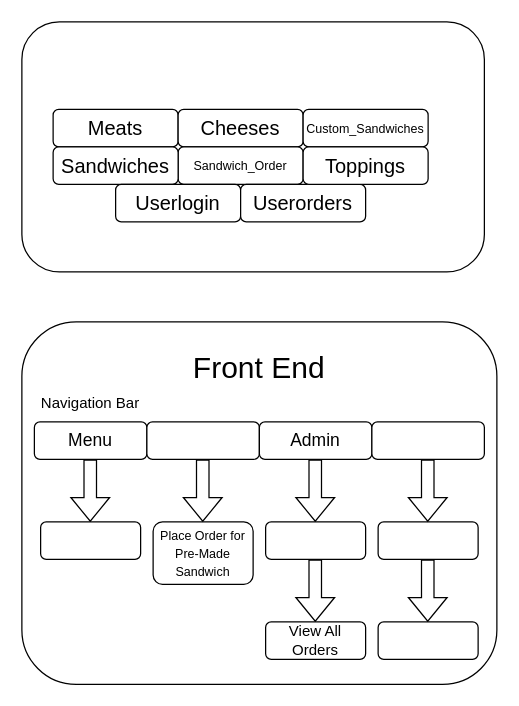
Image size: 519x706. Some labels were removed from this diagram. The shapes that lost their labels are listed below. From the top down, each one's box as (x1, y1, x2, y2) in pixels, then its label:
(21, 21, 484, 272): Back End Tables
(146, 421, 259, 459): Order
(371, 421, 484, 459): Create Sandwich
(39, 521, 141, 559): View Menu
(264, 521, 366, 559): Admin Login
(377, 521, 478, 559): Choose Toppings
(377, 621, 478, 659): Place Order
